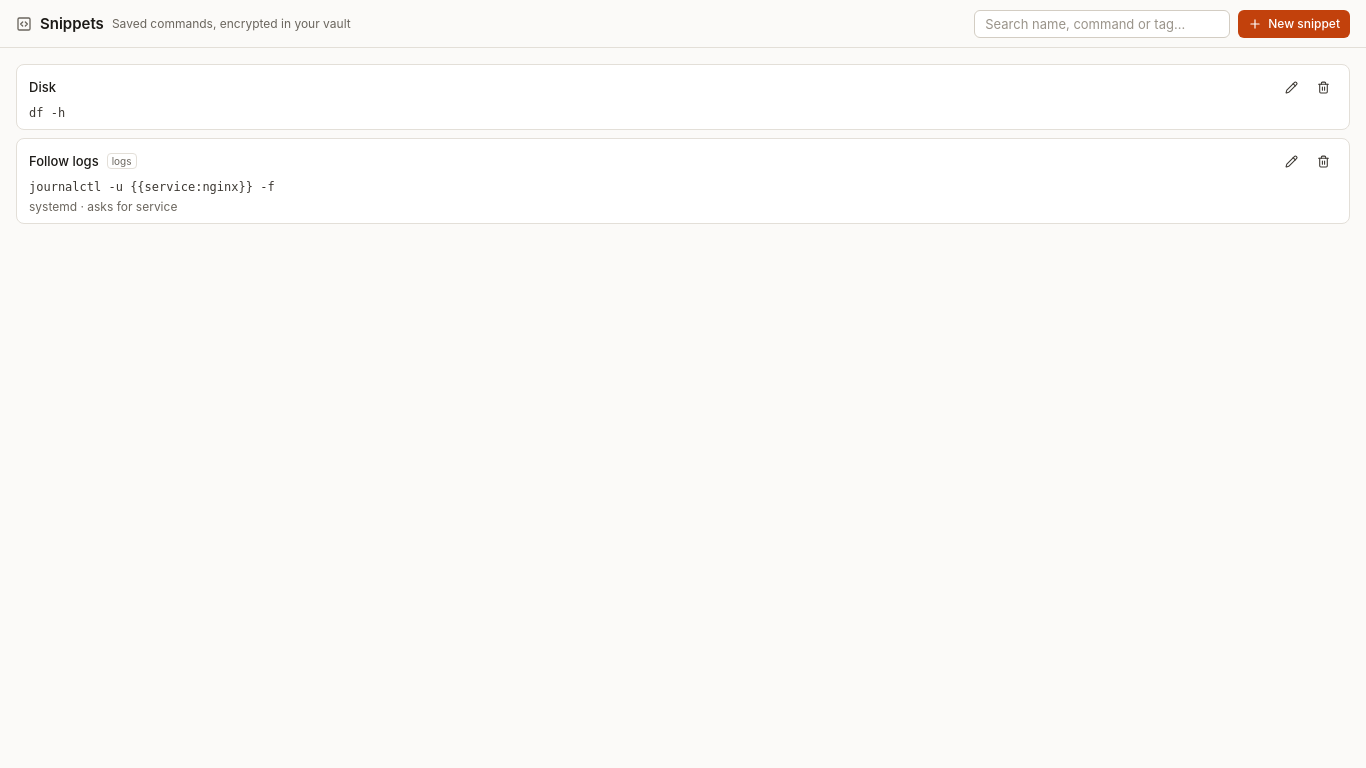
Scenario: SnippetsView › edits and deletes
Click the button named "Edit Disk" at coordinates (1291, 87), box [1277, 73, 1305, 101]
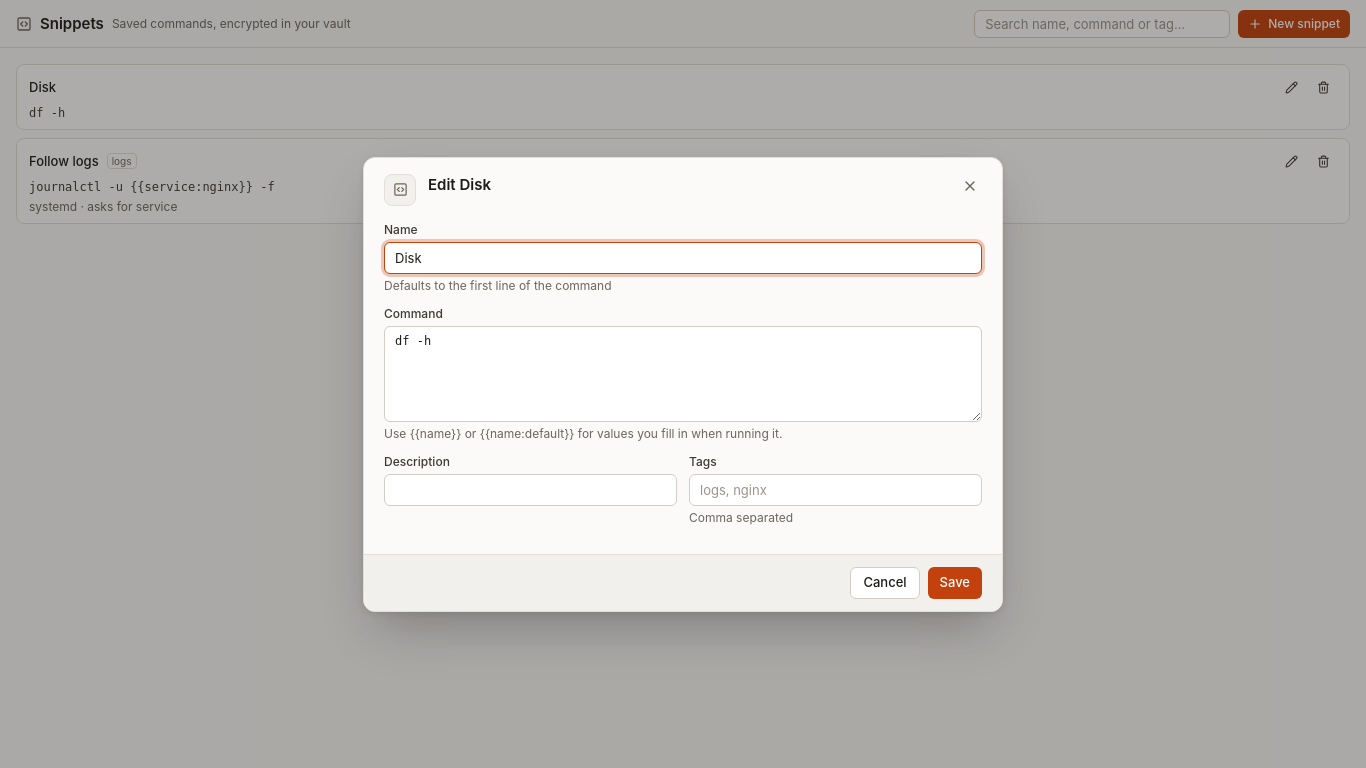
Type " /" into the text box labelled "Command" at coordinates (683, 374), box [384, 326, 982, 422]
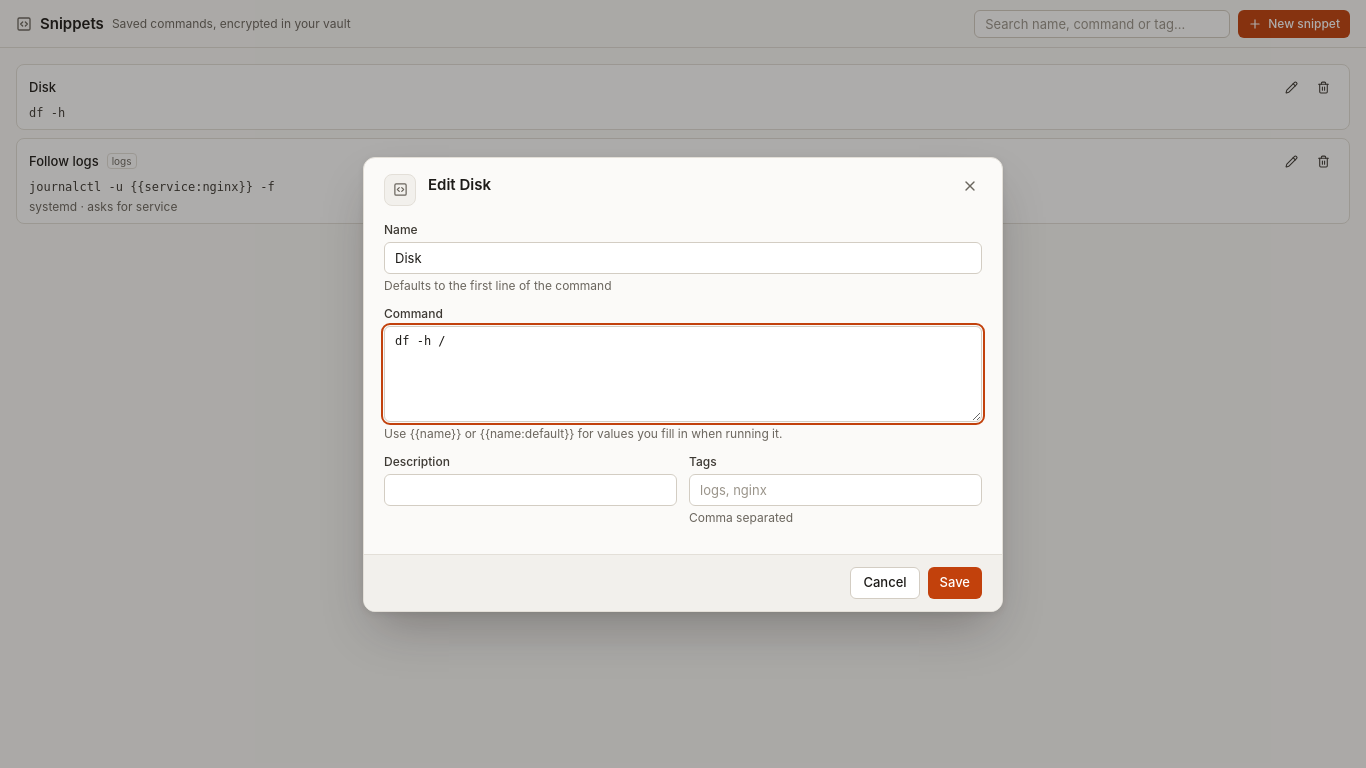
Click the button "Save" at coordinates (955, 582), box [928, 566, 982, 598]
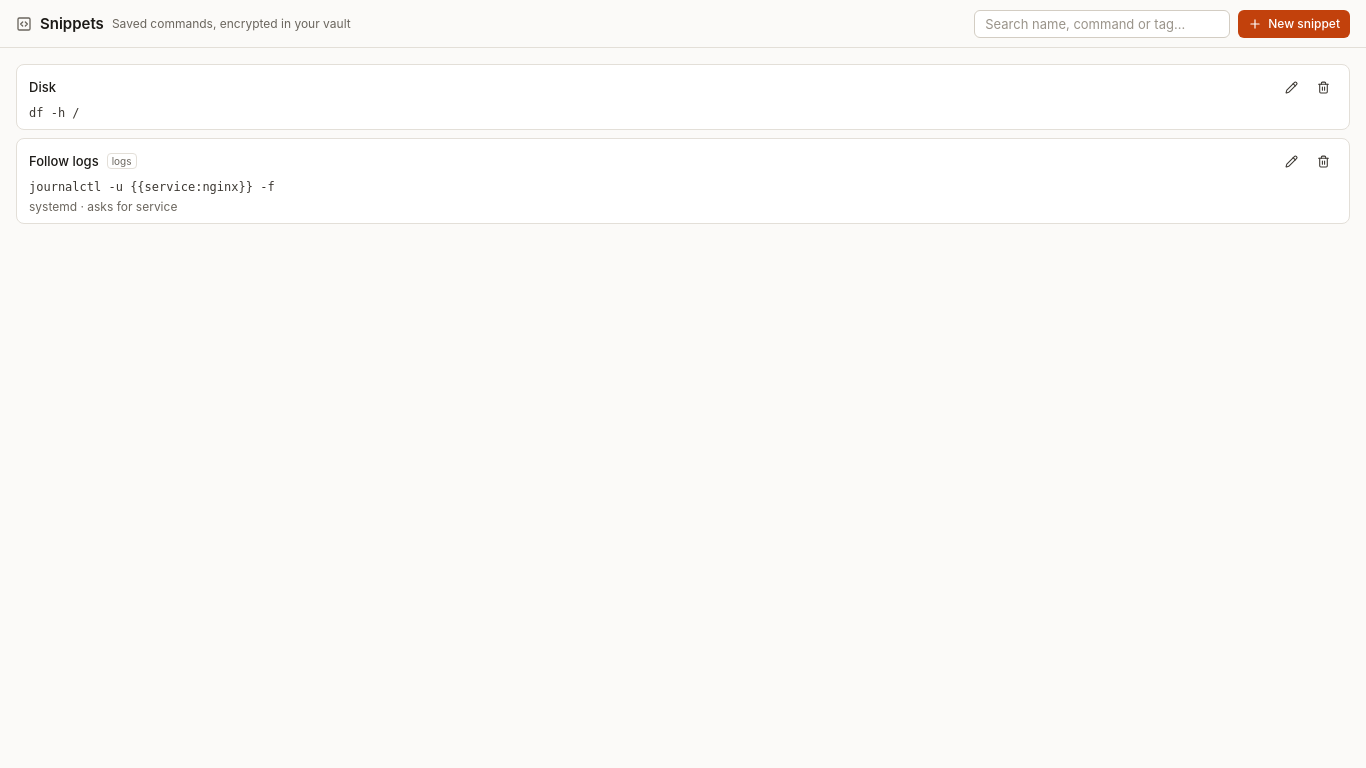
Click the button named "Delete Disk" at coordinates (1323, 87), box [1309, 73, 1337, 101]
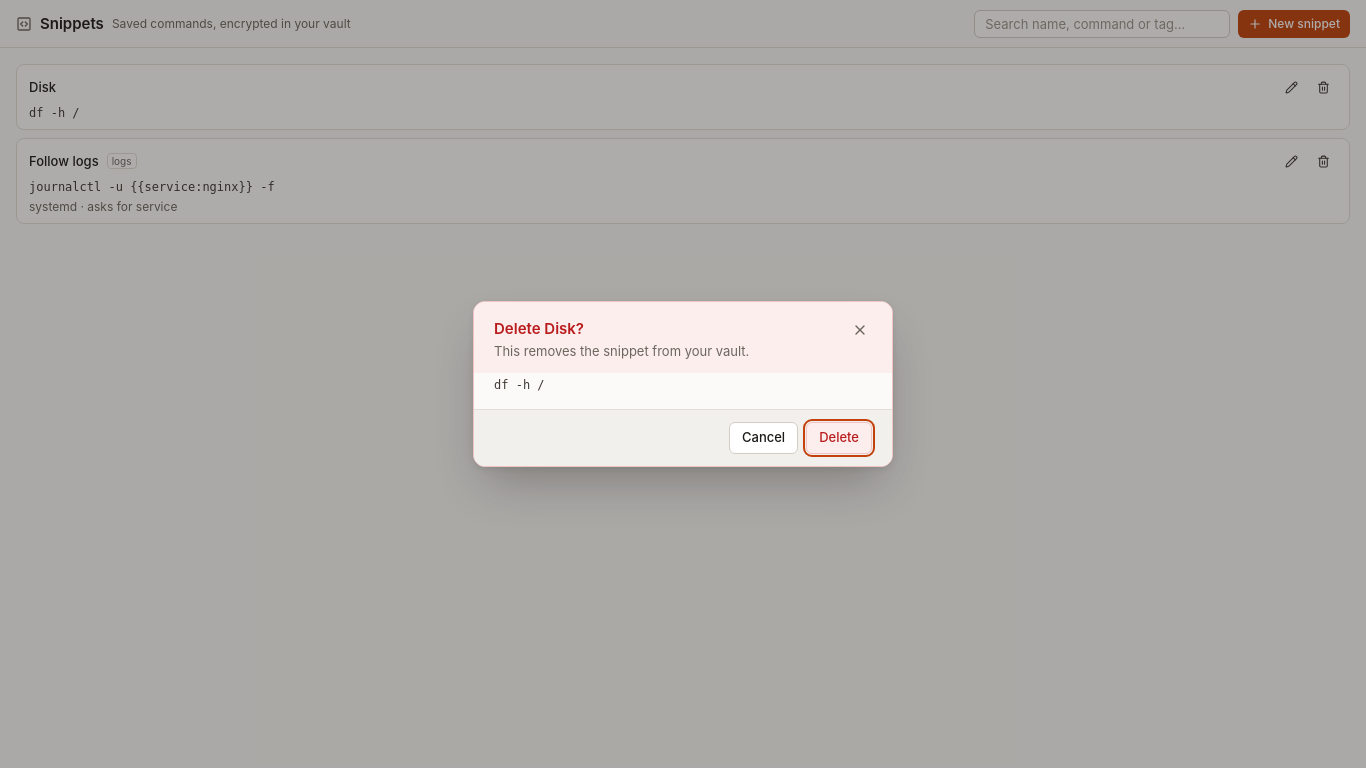
Click the button "Delete" at coordinates (839, 438), box [806, 422, 872, 454]
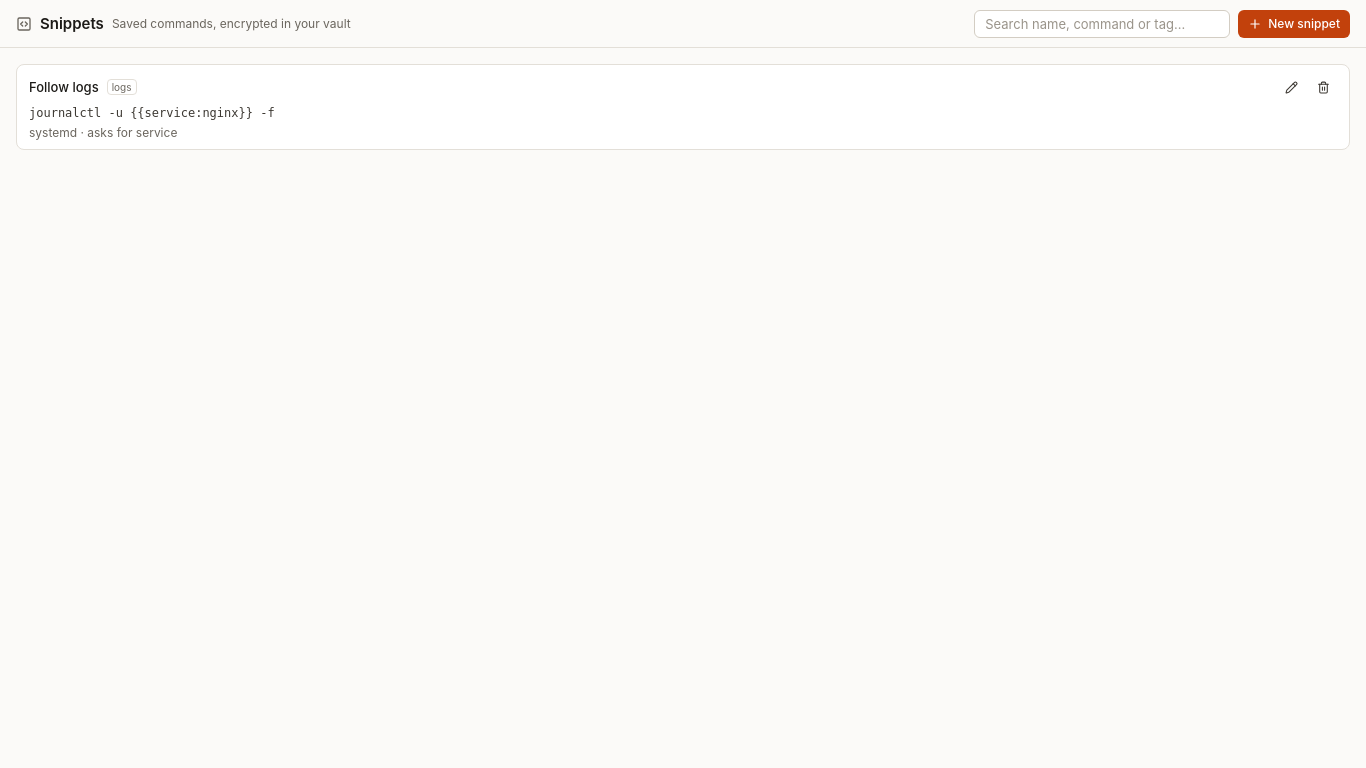
Now the text "Disk" is gone
